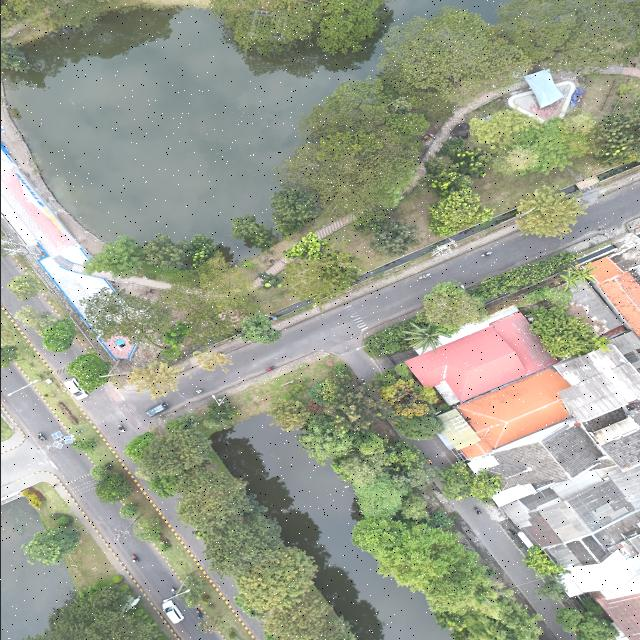Tree: (511, 183, 589, 239), (125, 360, 183, 398), (520, 545, 572, 579), (266, 398, 310, 434), (236, 313, 282, 345), (396, 415, 445, 441), (285, 232, 327, 262), (42, 318, 76, 352), (95, 472, 131, 502), (469, 471, 504, 499), (7, 274, 44, 300), (192, 351, 232, 374), (134, 518, 164, 542), (0, 344, 20, 368), (68, 438, 96, 452), (118, 502, 138, 520), (88, 466, 106, 480)
